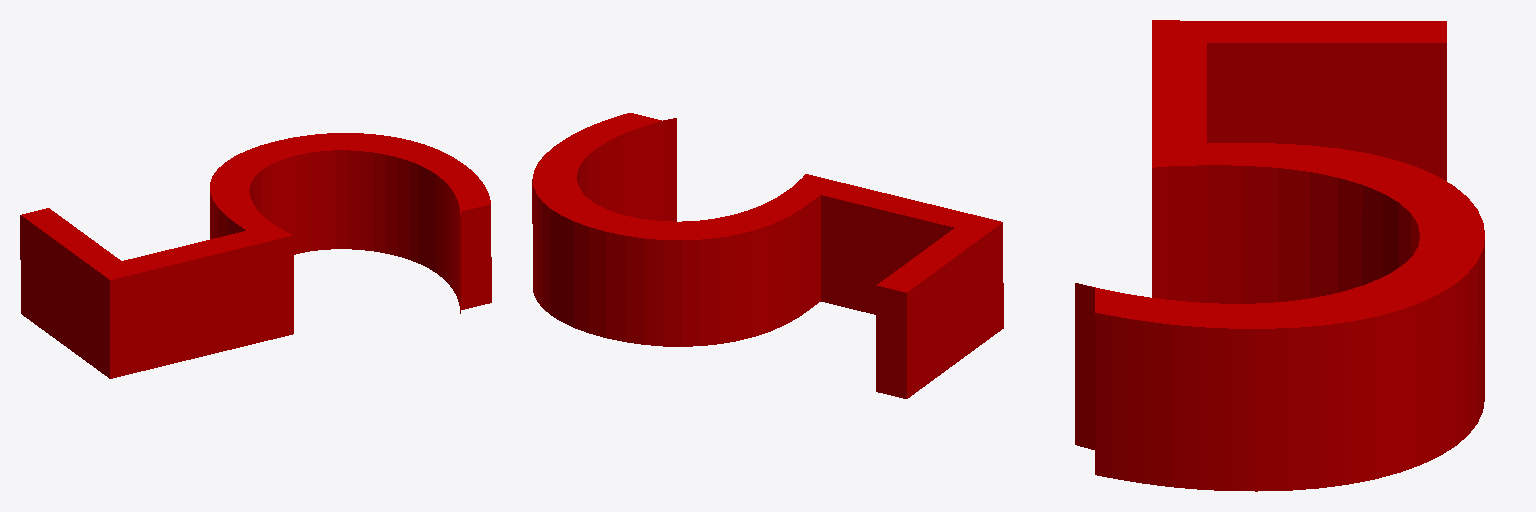
robot.urdf — number_5:
<?xml version="0.0" ?>
<robot name="number_5">
    <material name="red">
        <color rgba="0.799103 0.003676 0.010960 1"/>
    </material>

    <link name="baseLink">
        <!-- from lego/lego.urdf -->
        <contact>
            <lateral_friction value="1.0"/>
            <rolling_friction value="0.0"/>
            <contact_cfm value="0.0"/>
            <contact_erp value="1.0"/>
        </contact>
        <inertial>
            <origin rpy="0 0 0" xyz="0 0 0"/>
            <mass value="0.01"/>
            <inertia ixx="1" ixy="0" ixz="0" iyy="1" iyz="0" izz="1"/>
        </inertial>
        <visual>
            <origin rpy="1.57 0 0" xyz="0 0 0"/>
            <geometry>
                <!--        radius: 10mm, depth: 14.5mm-->
                <mesh filename="meshes/number_5.obj" scale="0.025 0.025 0.025"/>
                <!--        <box size="0.002 0.002 0.002"/>-->
            </geometry>
            <material name="red"/>
        </visual>
        <collision>
            <origin rpy="1.57 0 0" xyz="0 0 0"/>
            <geometry>
                <mesh filename="meshes/number_5_vhacd.obj" scale="0.025 0.025 0.025"/>
                       <!-- <box size="0.002 0.002 0.002"/> -->
            </geometry>
        </collision>
    </link>

    <link name="waypoint_0">
        <!--    origin-->
        <inertial>
            <origin rpy="0 0 0" xyz="0 0 0"/>
            <mass value=".0"/>
            <inertia ixx="0." ixy="0" ixz="0" iyy="0." iyz="0" izz="0."/>
        </inertial>
    </link>

    <joint name="waypoint_joint_0" type="fixed">
        <parent link="baseLink"/>
        <child link="waypoint_0"/>
        <origin rpy="0 0 -0.9" xyz="0 0.015 0.035"/>
    </joint>

    <link name="waypoint_1">
        <!--    origin-->
        <inertial>
            <origin rpy="0 0 0" xyz="0 0 0"/>
            <mass value=".0"/>
            <inertia ixx="0." ixy="0" ixz="0" iyy="0." iyz="0" izz="0."/>
        </inertial>
    </link>

    <joint name="waypoint_joint_1" type="fixed">
        <parent link="baseLink"/>
        <child link="waypoint_1"/>
        <origin rpy="0 0 0" xyz="0 0 0.15"/>
    </joint>
</robot>

--- Render facts (derived) ---
Views: 3 orthographic renders of the robot side by side, from view 1: azimuth 30°, elevation 25°; view 2: azimuth 150°, elevation 25°; view 3: azimuth 270°, elevation 25°.
Model number_5 with 3 links and 2 joints (2 fixed), rooted at baseLink, posed every joint at zero.
Visible links, largest first — view 1: baseLink; view 2: baseLink; view 3: baseLink.
Boxes of the visible links, x1,y1,x2,y2 form: baseLink: (20,133,491,378); baseLink: (532,113,1003,398); baseLink: (1075,20,1484,491).
Bounding box of the posed robot: 0.0651 × 0.0366 × 0.016 m (x, y, z).
Meshes: 1 distinct files referenced, 1 mesh visuals loaded (1 OBJ).